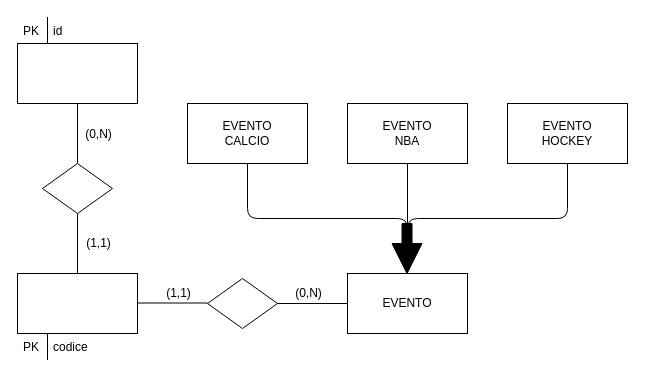
This 645x380 diagram has some shape labels left out. Here are the shapes that lost their labels. From the top down, the centre of each, then its label:
At point 77,73: "UTENTE".
At point 77,303: "SCHEDINA".
